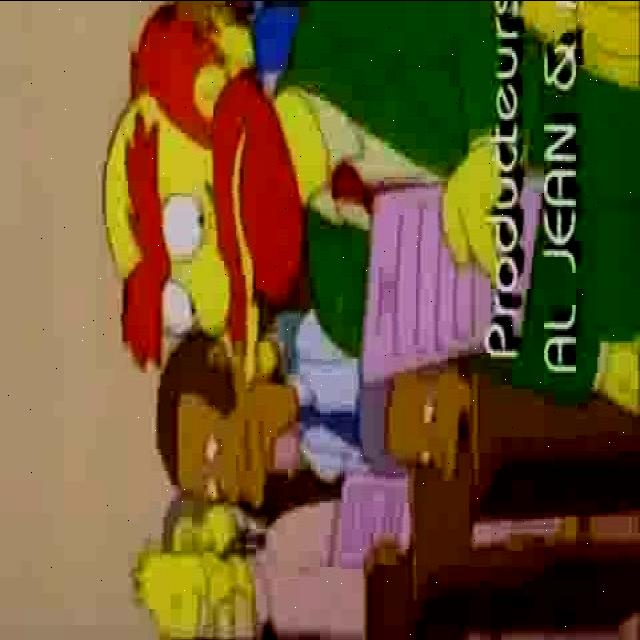Abraham Grampa Simpson: (128, 542, 262, 638)
Groundskeeper Willie: (101, 0, 308, 394)
